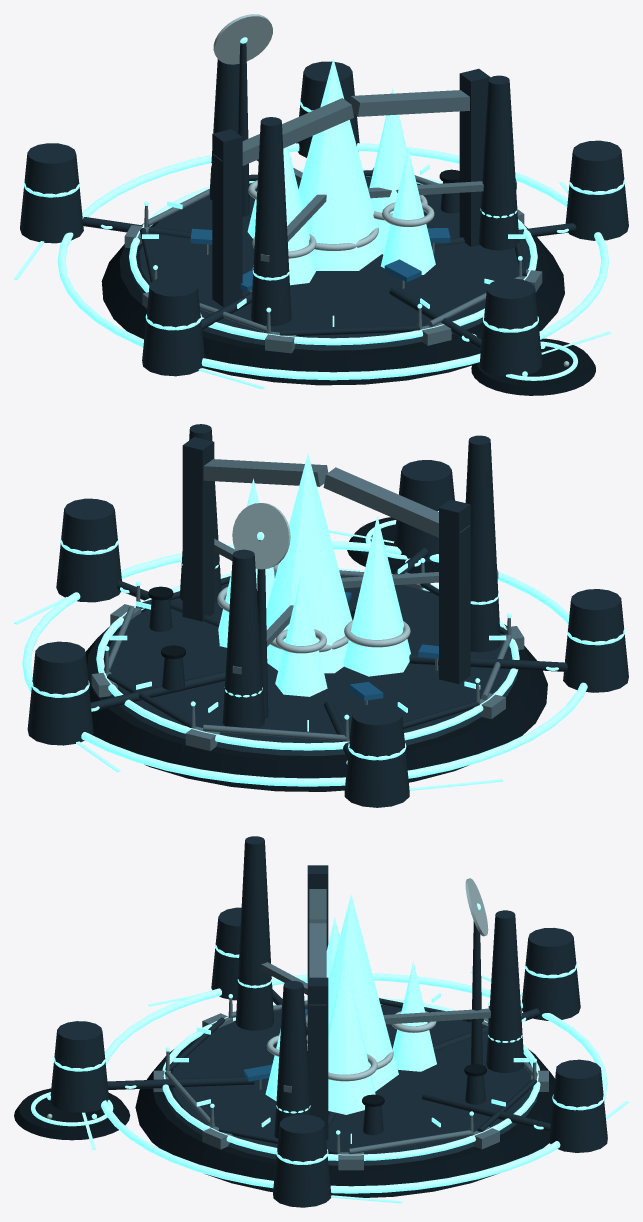
File: crystalMine-stage3.glb
3 views of the same model, one above another, from view 1: azimuth 30°, elevation 25°; view 2: azimuth 150°, elevation 25°; view 3: azimuth 270°, elevation 25° (orthographic). The views are drawn at different scales.
Parts seen in each view (by area): view 1: upper-deck, armored-foundation, gantry-tower (×2), crystal-spire-0, district-grid-2, processing-tower-1, processing-tower-0, refinery-annex-2, refinery-annex-3, refinery-annex-0, refinery-annex-1, gantry-arm (×2) (+19 smaller); view 2: upper-deck, armored-foundation, gantry-tower (×2), crystal-spire-0, district-grid-2, processing-tower-1, processing-tower-2, refinery-annex-3, refinery-annex-4, refinery-annex-0, refinery-annex-2, crystal-spire-1 (+21 smaller); view 3: upper-deck, armored-foundation, district-grid-2, processing-tower-1, crystal-spire-0, processing-tower-2, refinery-annex-0, refinery-annex-4, refinery-annex-1, refinery-annex-3, crystal-spire-2, gantry-tower (×2) (+15 smaller).
Part boxes in pixels (x1,y1,x2,y2): upper-deck: (131,177,535,350); armored-foundation: (101,176,564,385); gantry-tower (×2): (212,68,490,307); crystal-spire-0: (298,58,381,270); district-grid-2: (57,143,609,380); processing-tower-1: (251,117,291,326); processing-tower-0: (478,75,519,250); refinery-annex-2: (142,276,204,376); refinery-annex-3: (20,143,83,243); refinery-annex-0: (565,140,628,240); refinery-annex-1: (479,278,542,376); gantry-arm (×2): (213,90,469,165); upper-deck: (98,576,516,755); armored-foundation: (85,591,547,791); gantry-tower (×2): (182,437,470,683); crystal-spire-0: (266,453,352,673); district-grid-2: (22,541,587,786); processing-tower-1: (465,435,500,652); processing-tower-2: (222,549,264,728); refinery-annex-3: (344,704,409,807); refinery-annex-4: (27,641,93,745); refinery-annex-0: (56,498,121,602); refinery-annex-2: (563,589,628,692); crystal-spire-1: (343,516,410,676); upper-deck: (164,1004,538,1165); armored-foundation: (135,1020,554,1197); district-grid-2: (101,973,607,1193); processing-tower-1: (236,836,273,1030); crystal-spire-0: (328,894,398,1091); processing-tower-2: (486,910,524,1072); refinery-annex-0: (273,1114,331,1207); refinery-annex-4: (549,1059,607,1152); refinery-annex-1: (50,1021,109,1112); refinery-annex-3: (521,928,580,1020); crystal-spire-2: (328,957,375,1114); gantry-tower (×2): (307,865,328,1140).
Bounding box in the file's own units: 13.83 × 5.91 × 15.26.
